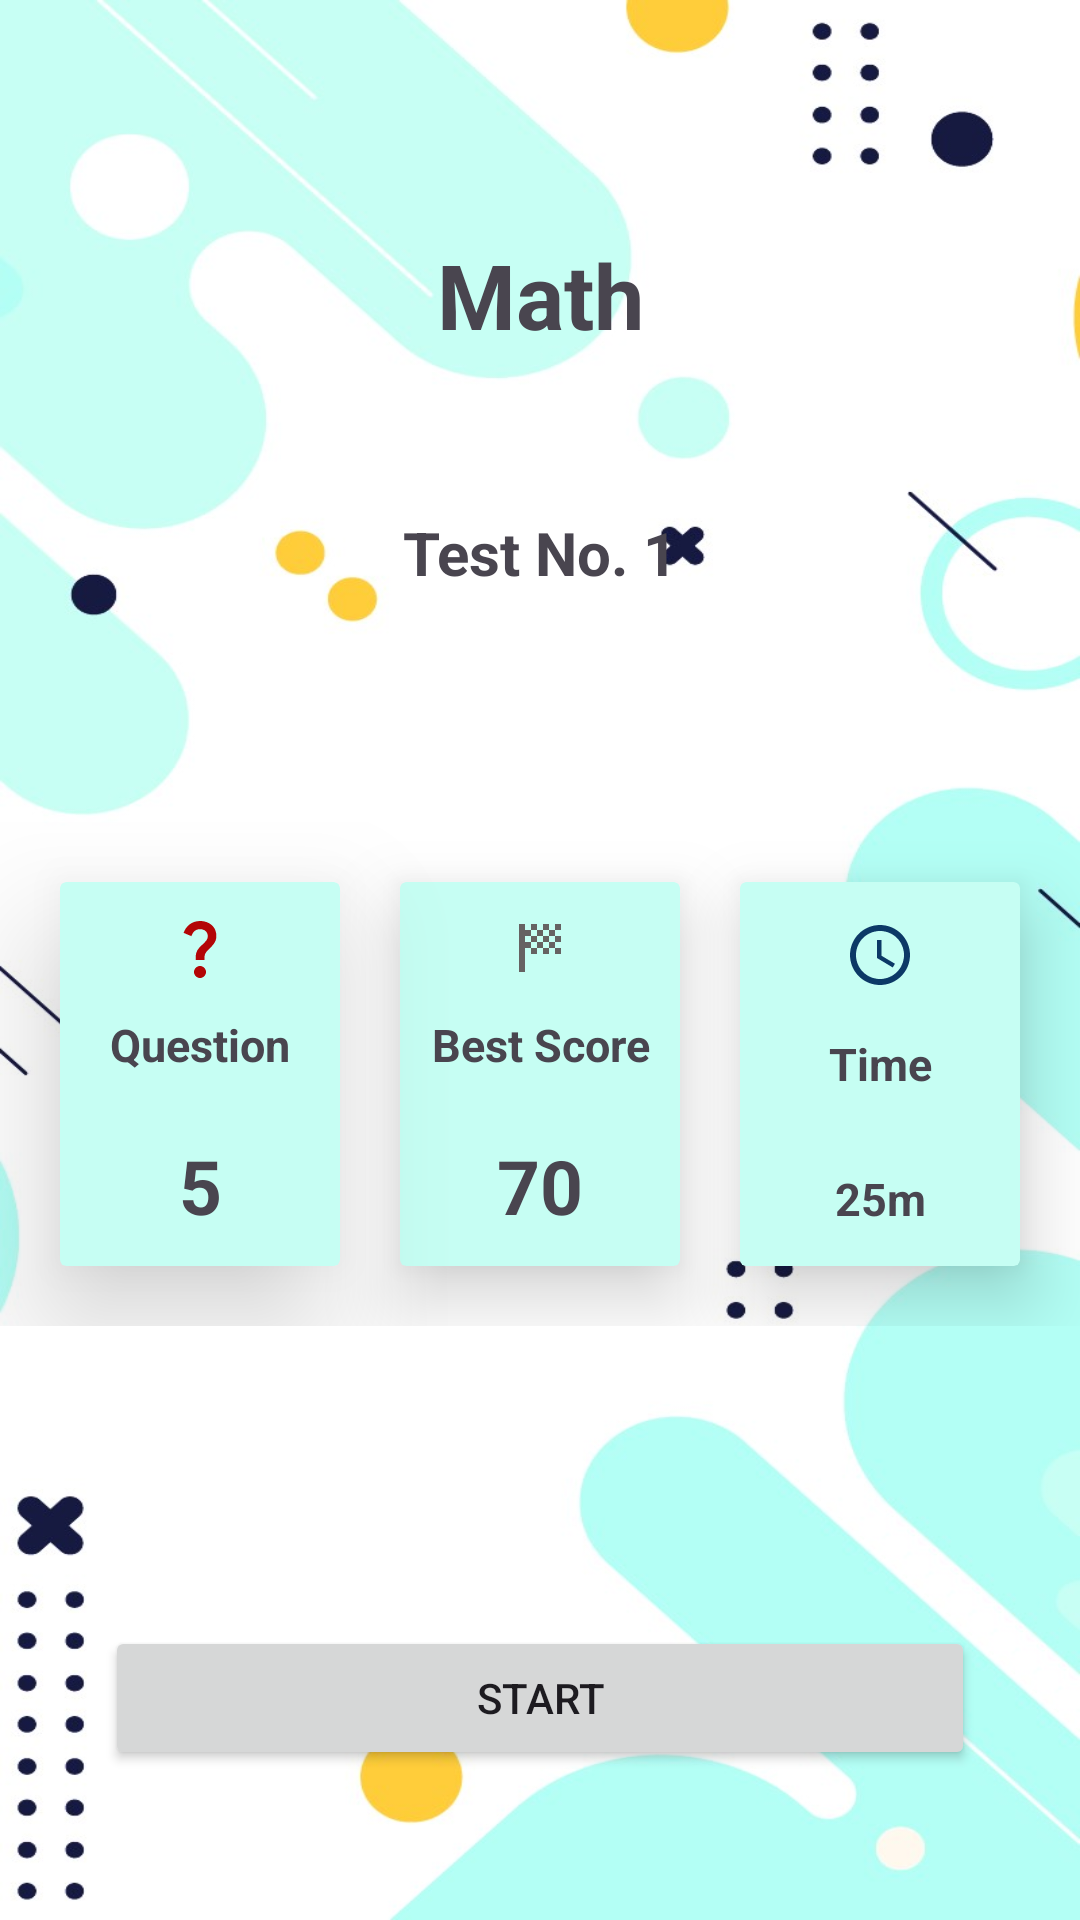

Where to tap for icons on this 1080×1920 app screen, as (x,y):
sports score: (540,948)
